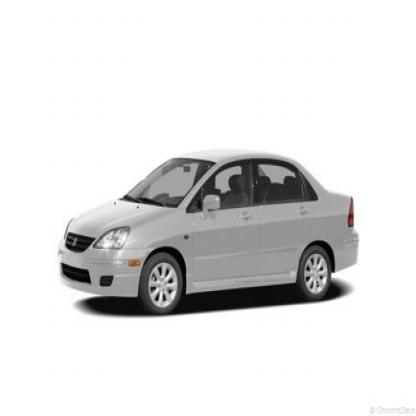Vehicle: (57, 146, 362, 318)
